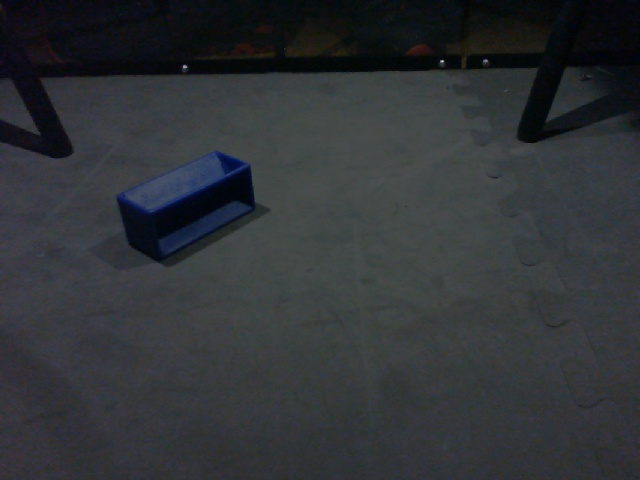BlueSample: (115, 148, 257, 263)
